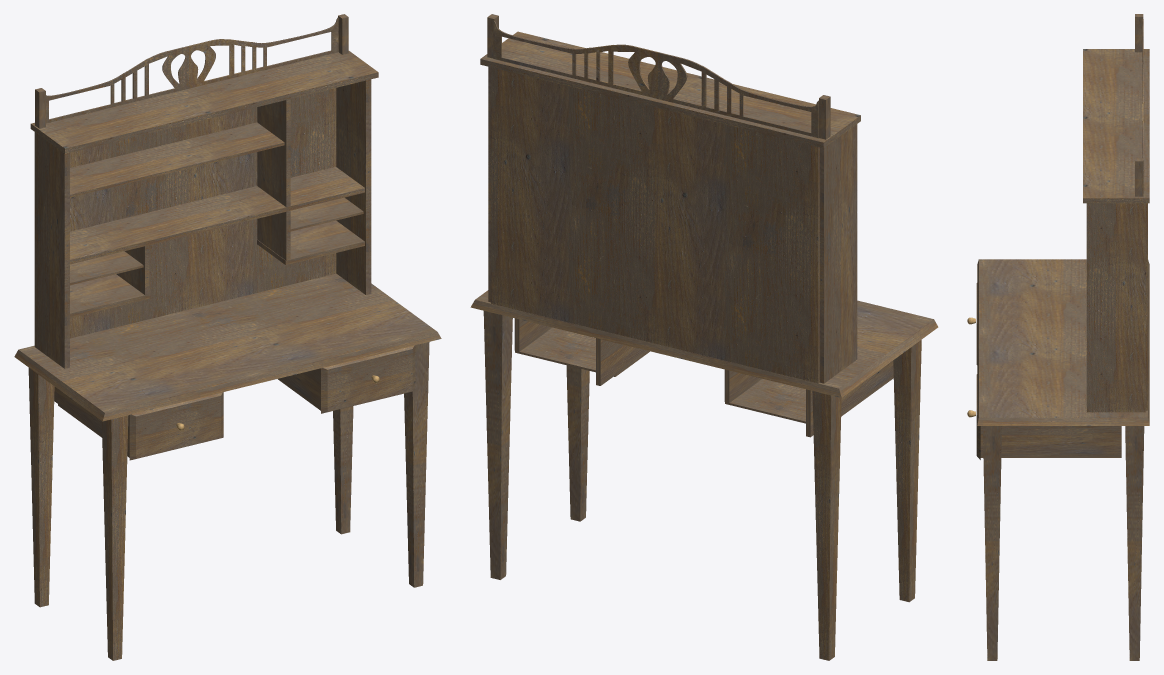
The model's file is desk.glb.
The picture shows the model from 3 angles, left to right: view 1: azimuth 30°, elevation 25°; view 2: azimuth 150°, elevation 25°; view 3: azimuth 270°, elevation 25°; orthographic projection. The views are drawn at different scales.
Parts seen in each view (by area): view 1: Desk_One300; view 2: Desk_One300; view 3: Desk_One300.
Part boxes in pixels (box(x1,y1,x2,y2)): Desk_One300: box(14, 14, 441, 660); Desk_One300: box(470, 14, 938, 660); Desk_One300: box(967, 14, 1149, 660).
Size of the model in its own units: 1.41 by 2.06 by 0.673.
Materials: 3 (3 with a texture image).
